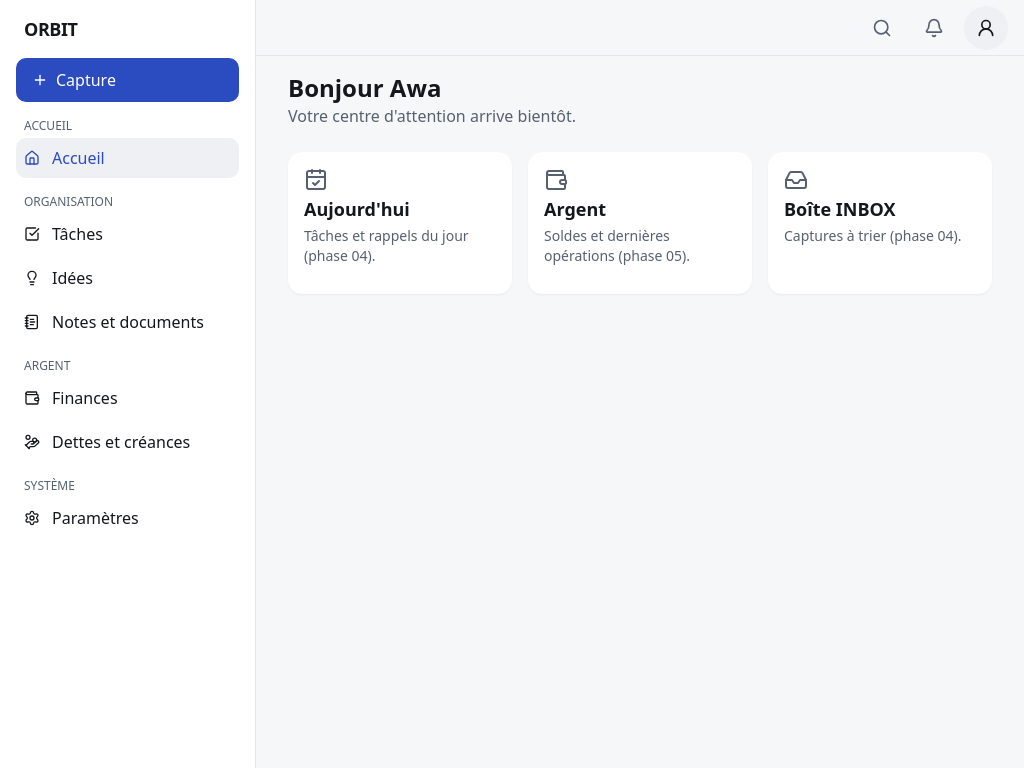
Test: shell and navigation › logs out from the user menu and clears the cache
Click the button named "Menu du compte" at (986, 28), box [964,6,1008,50]
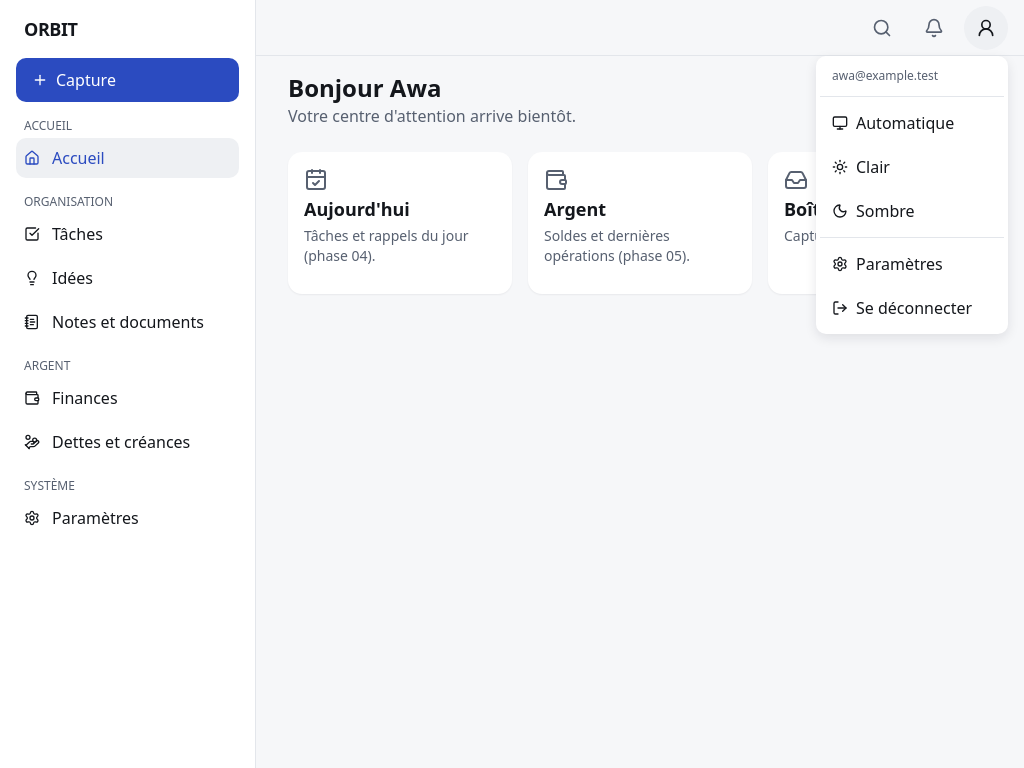
Click the menu item "Se déconnecter" at (902, 308), box [832,297,972,319]
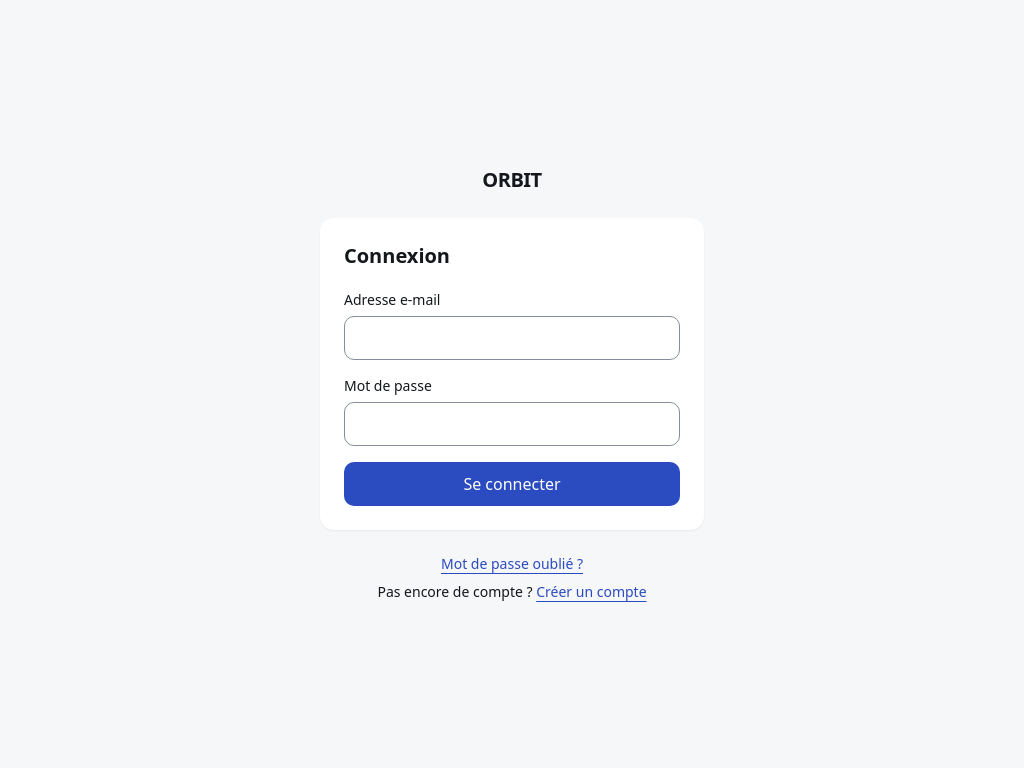
Now the heading "Connexion" is shown, box [344,242,450,269]
